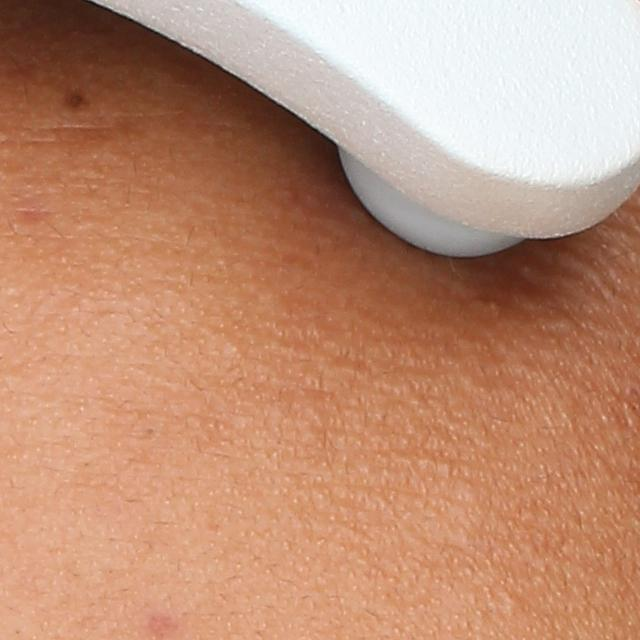comedo: (503, 591, 522, 612)
nevus: (57, 87, 89, 113)
